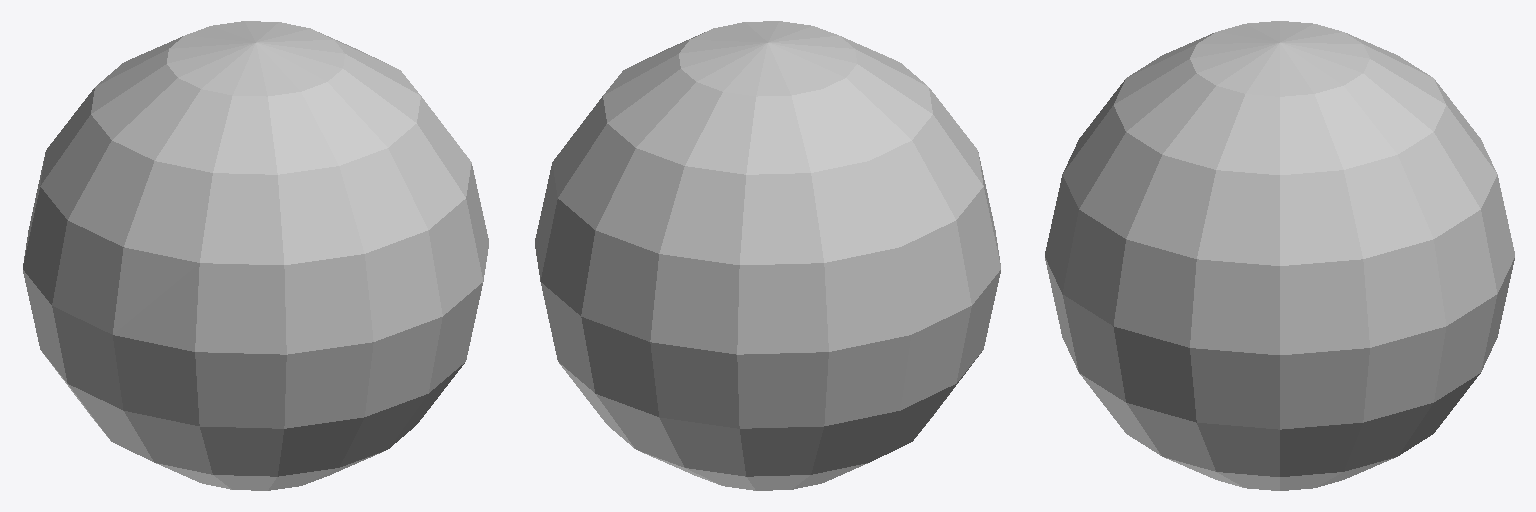
Rendered from bola11.obj.
3 renders of one model, left to right at view 1: azimuth 30°, elevation 25°; view 2: azimuth 150°, elevation 25°; view 3: azimuth 270°, elevation 25°, orthographic.
Visible parts, largest first — view 1: POOL_TABLE.037; view 2: POOL_TABLE.037; view 3: POOL_TABLE.037.
Part boxes in pixels (x1,y1,x2,y2): POOL_TABLE.037: (23,21,488,490); POOL_TABLE.037: (535,21,1000,490); POOL_TABLE.037: (1045,21,1514,490).
Bounding box in the file's own units: 0.0585 × 0.0585 × 0.0585.